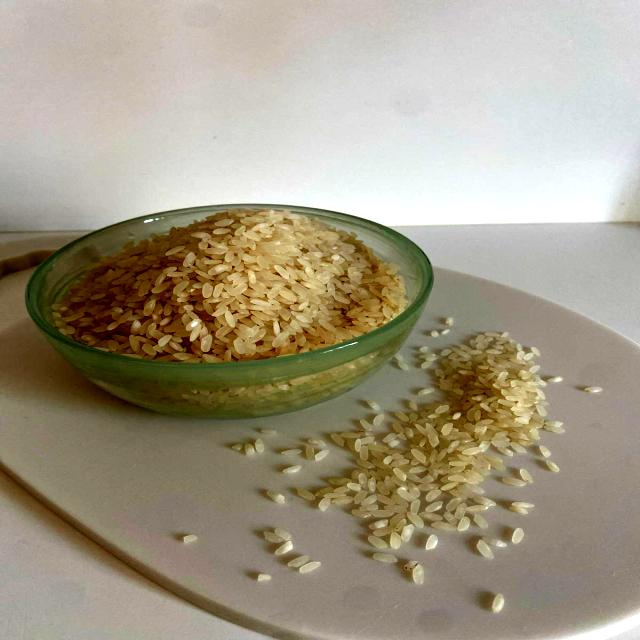rice: (19, 192, 445, 389), (389, 354, 544, 483), (123, 245, 341, 325)
